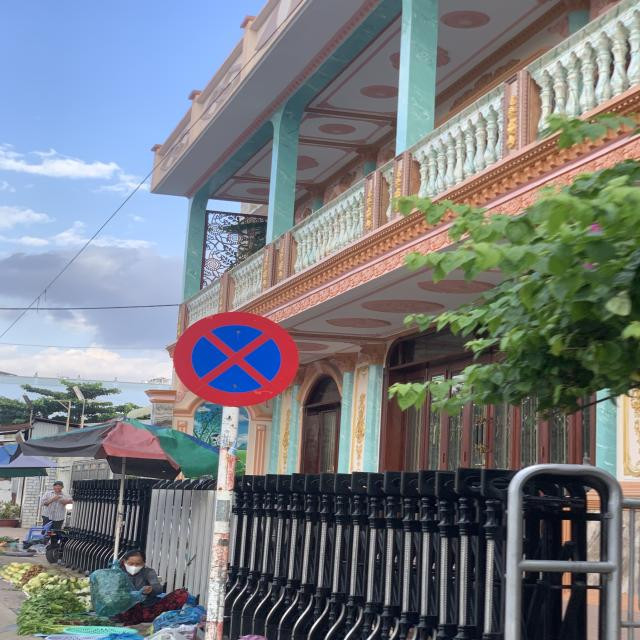Cam_Dung_Va_Dau_Xe: (174, 310, 301, 405)
